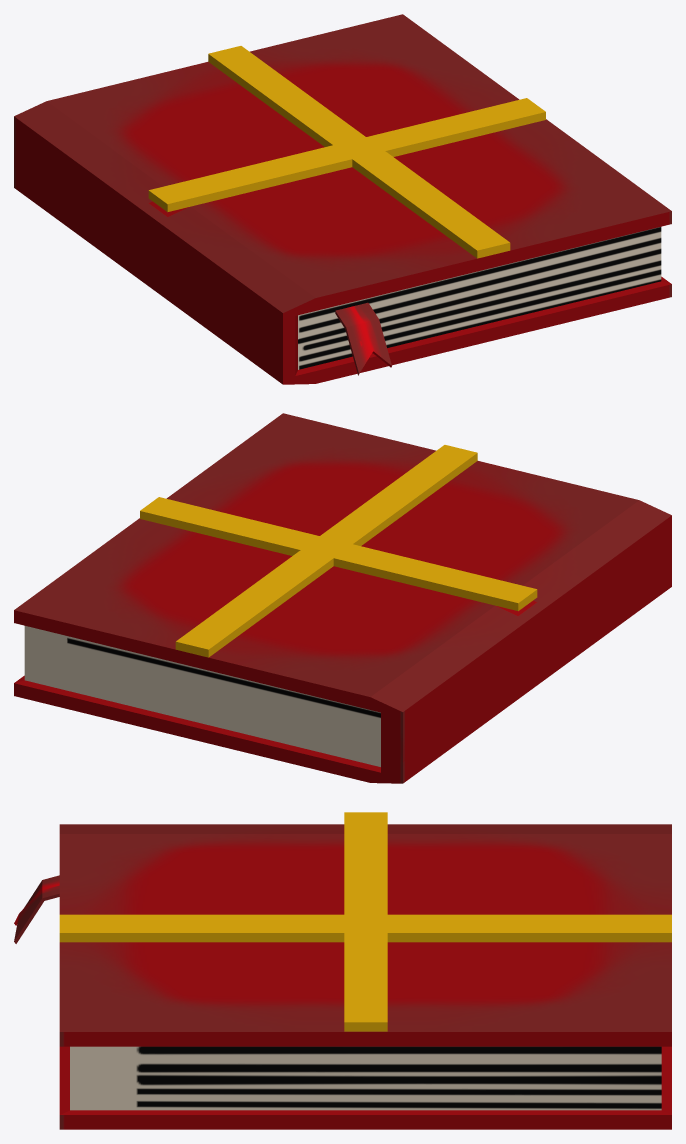
File: Book 5.glb
3 views of the same model, one above another, from view 1: azimuth 30°, elevation 25°; view 2: azimuth 150°, elevation 25°; view 3: azimuth 270°, elevation 25° (orthographic). The views are drawn at different scales.
Visible parts, largest first — view 1: Cube.013, Plane.013; view 2: Cube.013; view 3: Cube.013, Plane.013.
Part boxes in pixels (x1,y1,x2,y2): Cube.013: [14, 14, 671, 384]; Plane.013: [335, 302, 391, 375]; Cube.013: [14, 413, 671, 783]; Cube.013: [59, 812, 671, 1129]; Plane.013: [14, 875, 59, 943].
Size of the model in its own units: 0.2261 by 0.0521 by 0.2911.
4 materials, 3 textured.
